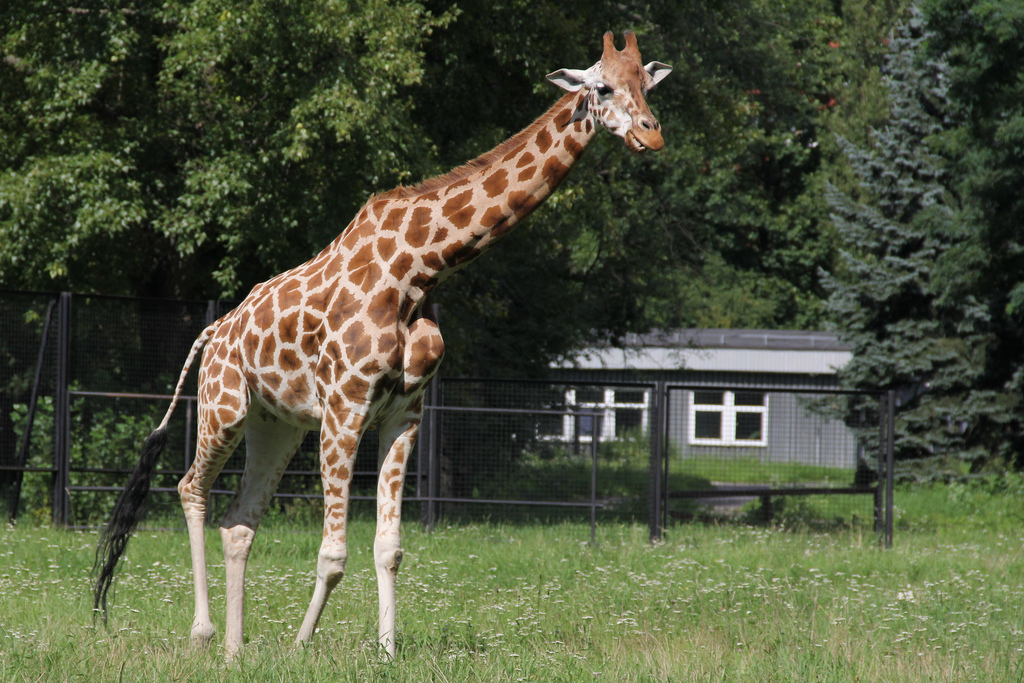giraffe: (134, 31, 693, 611)
